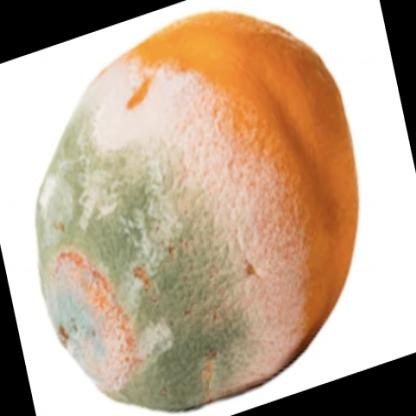rotten_orange: (28, 5, 366, 416)
